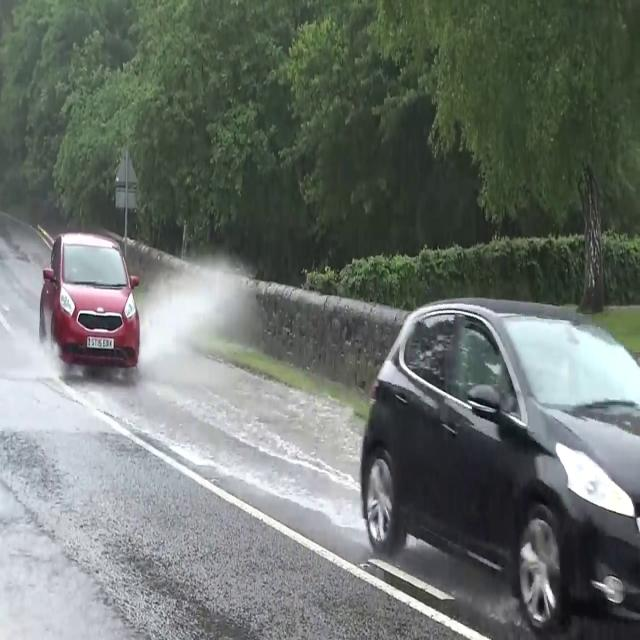license-plate-annotation: (85, 333, 121, 352)
